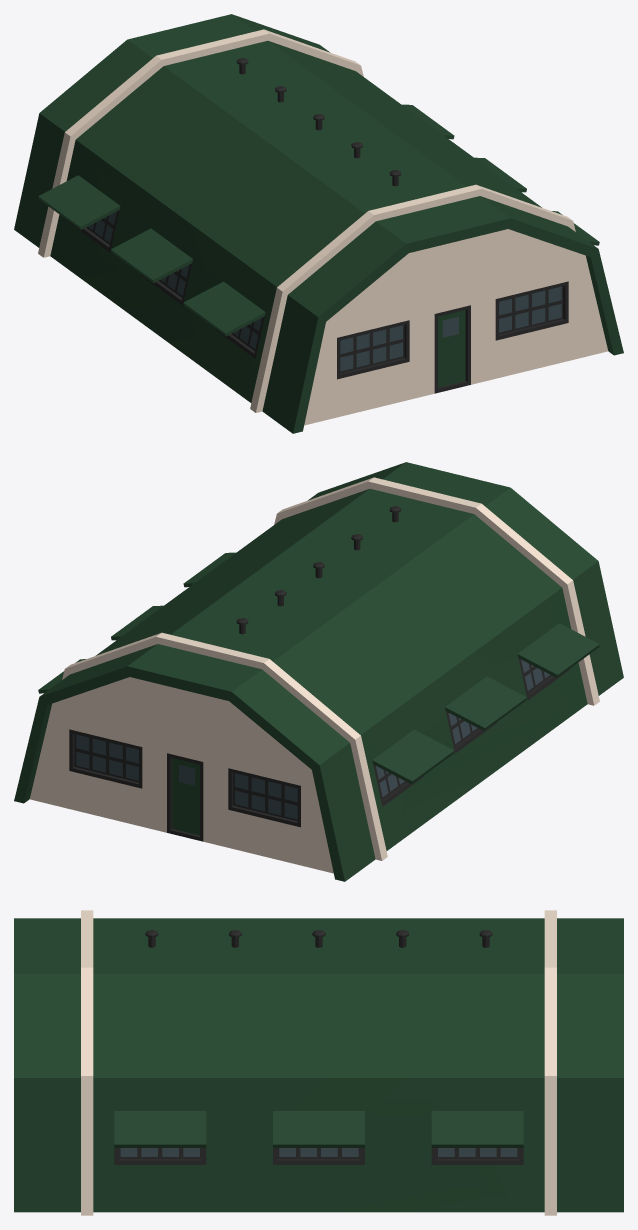
Rendered from military_military-barracks.fbx.
3 renders of one model, top to bottom at view 1: azimuth 30°, elevation 25°; view 2: azimuth 150°, elevation 25°; view 3: azimuth 270°, elevation 25°, orthographic. The views are drawn at different scales.
Visible parts, largest first — view 1: military_military_barracks; view 2: military_military_barracks; view 3: military_military_barracks.
Boxes of the visible parts, left/top/right/bottom form: military_military_barracks: left=14, top=14, right=623, bottom=433; military_military_barracks: left=14, top=462, right=623, bottom=881; military_military_barracks: left=14, top=910, right=623, bottom=1215.
Bounding box in the file's own units: 155 × 69.63 × 200.
